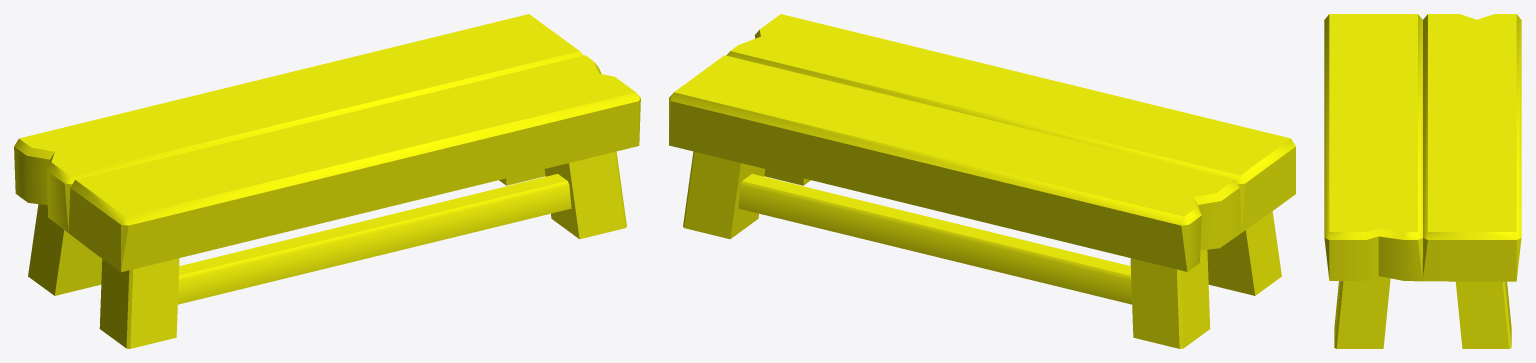
The model's file is kaykit-halloween-bench.glb.
3 renders of one model, left to right at view 1: azimuth 30°, elevation 25°; view 2: azimuth 150°, elevation 25°; view 3: azimuth 270°, elevation 25°, orthographic. The views are drawn at different scales.
Visible parts, largest first — view 1: bench; view 2: bench; view 3: bench.
Part boxes in pixels (box(x1,y1,x2,y2)): bench: box(14, 14, 640, 348); bench: box(669, 14, 1295, 348); bench: box(1324, 14, 1521, 348).
Size of the model in its own units: 2 by 0.5001 by 0.7501.
